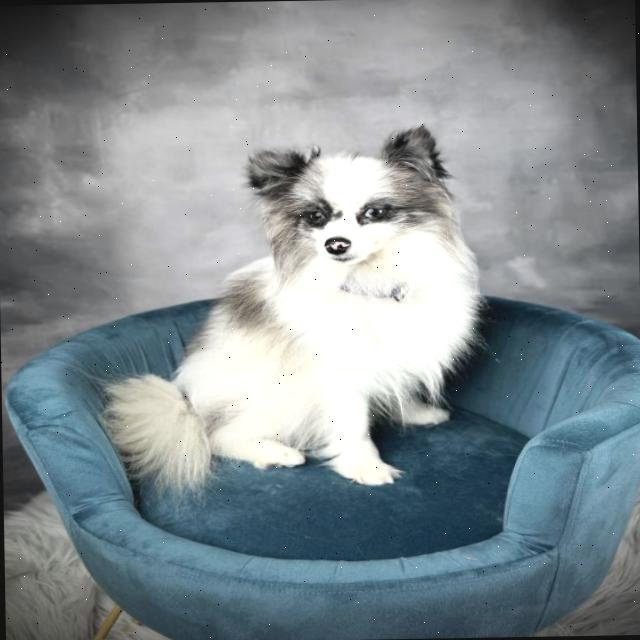pomeranian_dog: (227, 122, 480, 288)
